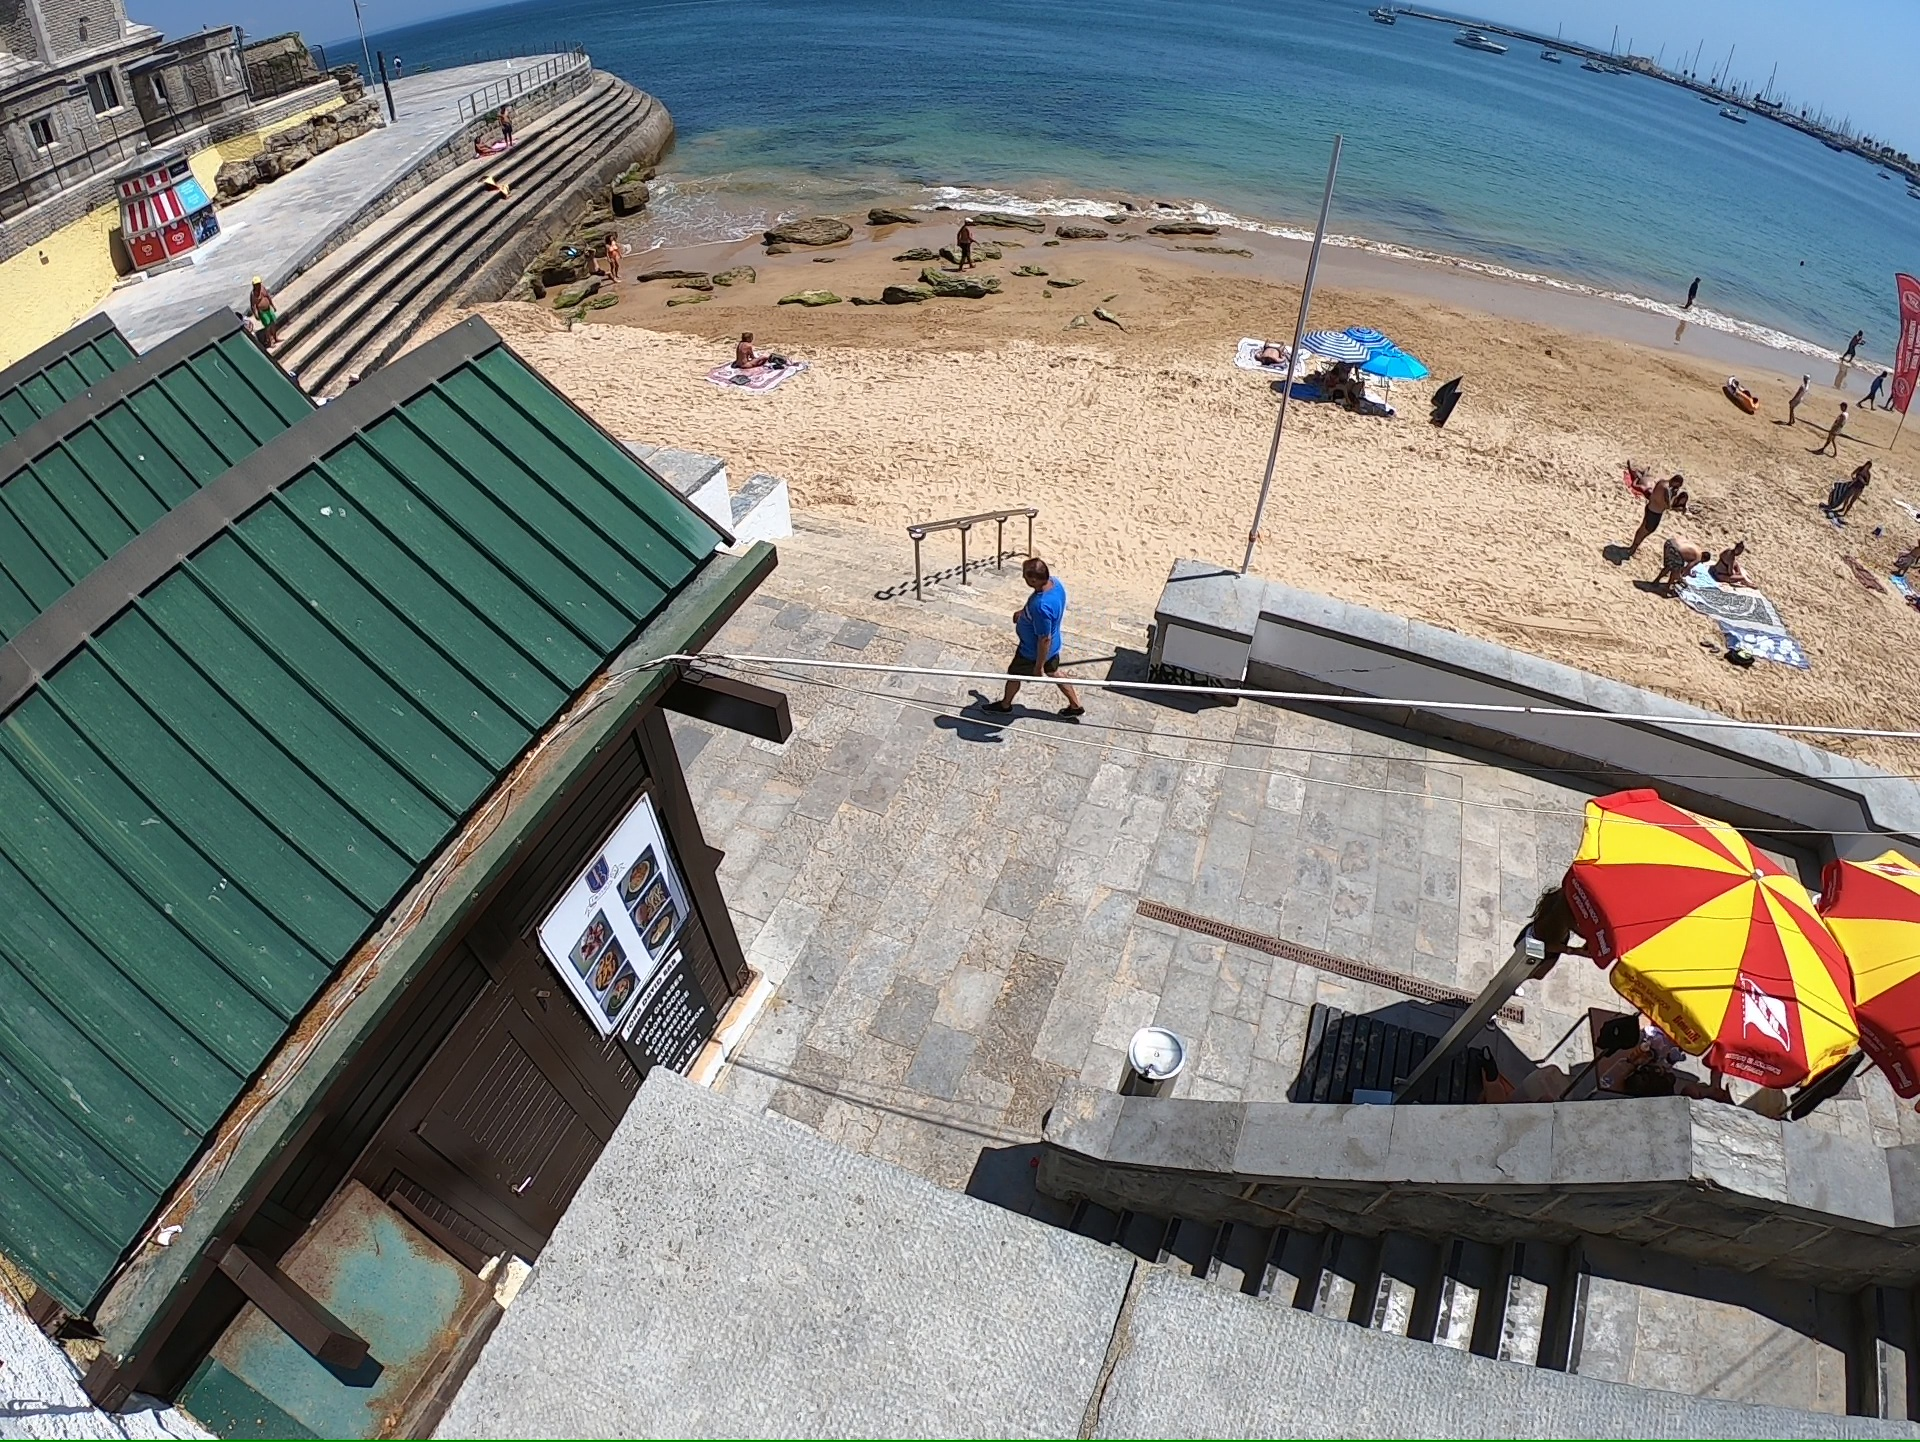person: (1000, 549, 1076, 716), (1637, 473, 1683, 533), (1664, 541, 1712, 578), (1785, 373, 1815, 428), (954, 216, 981, 271), (1846, 458, 1875, 505), (1722, 536, 1747, 579), (737, 329, 757, 366), (1834, 397, 1851, 429), (1688, 272, 1702, 310), (1870, 367, 1889, 393)
